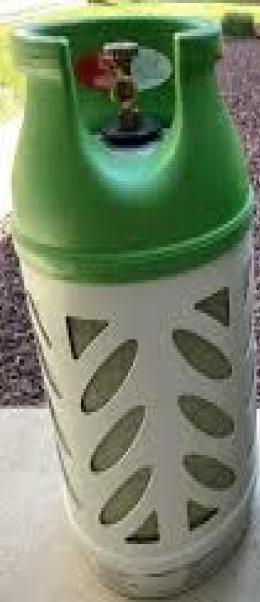cylinder: (1, 1, 260, 602)
